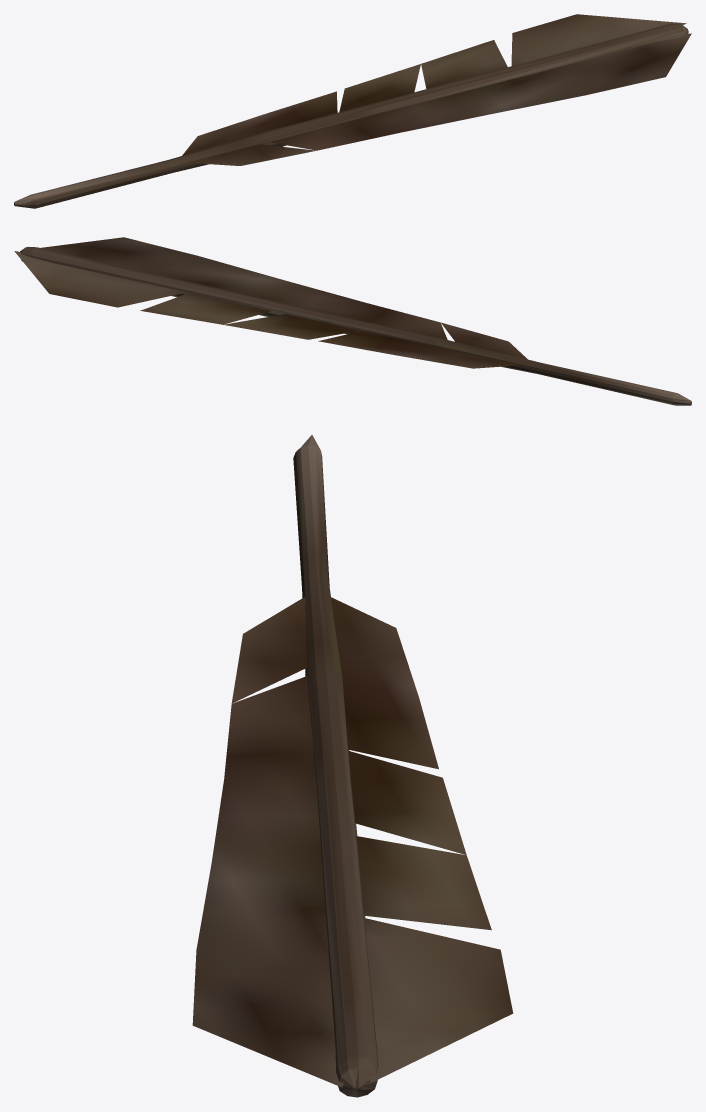
File: FEDERV6.glb
The picture shows the model from 3 angles, top to bottom: view 1: azimuth 30°, elevation 25°; view 2: azimuth 150°, elevation 25°; view 3: azimuth 270°, elevation 25°; orthographic projection. The views are drawn at different scales.
Parts seen in each view (by area): view 1: FEDERV6; view 2: FEDERV6; view 3: FEDERV6.
Boxes of the visible parts, x1,y1,x2,y2 form: FEDERV6: (14,14,691,208); FEDERV6: (14,237,691,405); FEDERV6: (192,435,513,1097).
Bounding box in the file's own units: 0.4088 × 0.0106 × 0.0856.
2 materials, 2 textured.
